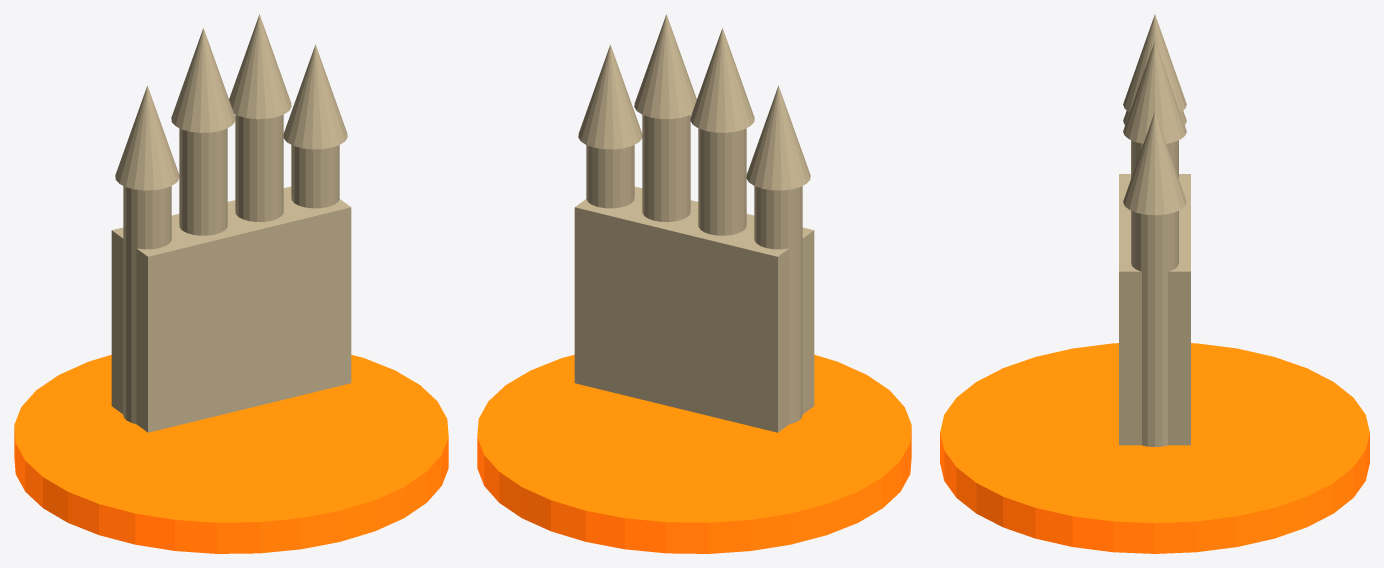
Rendered from spanish_sagrada_familia.dae.
The picture shows the model from 3 angles, left to right: view 1: azimuth 30°, elevation 25°; view 2: azimuth 150°, elevation 25°; view 3: azimuth 270°, elevation 25°; orthographic projection.
Visible parts, largest first — view 1: 11_11_Popular_Spanish_Sagrada_Familia_ROOT_base, 11_11_Popular_Spanish_Sagrada_Familia_part_09, 11_11_Popular_Spanish_Sagrada_Familia_part_01, 11_11_Popular_Spanish_Sagrada_Familia_part_03, 11_11_Popular_Spanish_Sagrada_Familia_part_05, 11_11_Popular_Spanish_Sagrada_Familia_part_08, 11_11_Popular_Spanish_Sagrada_Familia_part_02, 11_11_Popular_Spanish_Sagrada_Familia_part_04, 11_11_Popular_Spanish_Sagrada_Familia_part_06, 11_11_Popular_Spanish_Sagrada_Familia_part_07; view 2: 11_11_Popular_Spanish_Sagrada_Familia_ROOT_base, 11_11_Popular_Spanish_Sagrada_Familia_part_09, 11_11_Popular_Spanish_Sagrada_Familia_part_01, 11_11_Popular_Spanish_Sagrada_Familia_part_03, 11_11_Popular_Spanish_Sagrada_Familia_part_05, 11_11_Popular_Spanish_Sagrada_Familia_part_08, 11_11_Popular_Spanish_Sagrada_Familia_part_02, 11_11_Popular_Spanish_Sagrada_Familia_part_04, 11_11_Popular_Spanish_Sagrada_Familia_part_06, 11_11_Popular_Spanish_Sagrada_Familia_part_07; view 3: 11_11_Popular_Spanish_Sagrada_Familia_ROOT_base, 11_11_Popular_Spanish_Sagrada_Familia_part_09, 11_11_Popular_Spanish_Sagrada_Familia_part_07, 11_11_Popular_Spanish_Sagrada_Familia_part_08, 11_11_Popular_Spanish_Sagrada_Familia_part_06, 11_11_Popular_Spanish_Sagrada_Familia_part_04.
Boxes of the visible parts, <box> form: 11_11_Popular_Spanish_Sagrada_Familia_ROOT_base: <box>14,354,448,553</box>; 11_11_Popular_Spanish_Sagrada_Familia_part_09: <box>111,186,351,432</box>; 11_11_Popular_Spanish_Sagrada_Familia_part_01: <box>123,186,171,423</box>; 11_11_Popular_Spanish_Sagrada_Familia_part_03: <box>179,128,227,235</box>; 11_11_Popular_Spanish_Sagrada_Familia_part_05: <box>235,114,283,221</box>; 11_11_Popular_Spanish_Sagrada_Familia_part_08: <box>283,44,347,149</box>; 11_11_Popular_Spanish_Sagrada_Familia_part_02: <box>115,85,179,190</box>; 11_11_Popular_Spanish_Sagrada_Familia_part_04: <box>171,28,235,132</box>; 11_11_Popular_Spanish_Sagrada_Familia_part_06: <box>229,14,291,119</box>; 11_11_Popular_Spanish_Sagrada_Familia_part_07: <box>291,145,339,208</box>; 11_11_Popular_Spanish_Sagrada_Familia_ROOT_base: <box>477,354,911,553</box>; 11_11_Popular_Spanish_Sagrada_Familia_part_09: <box>574,186,814,432</box>; 11_11_Popular_Spanish_Sagrada_Familia_part_01: <box>754,186,802,423</box>; 11_11_Popular_Spanish_Sagrada_Familia_part_03: <box>698,128,746,235</box>; 11_11_Popular_Spanish_Sagrada_Familia_part_05: <box>642,114,690,221</box>; 11_11_Popular_Spanish_Sagrada_Familia_part_08: <box>578,44,642,149</box>; 11_11_Popular_Spanish_Sagrada_Familia_part_02: <box>746,85,810,190</box>; 11_11_Popular_Spanish_Sagrada_Familia_part_04: <box>690,28,754,132</box>; 11_11_Popular_Spanish_Sagrada_Familia_part_06: <box>634,14,696,119</box>; 11_11_Popular_Spanish_Sagrada_Familia_part_07: <box>586,145,634,208</box>; 11_11_Popular_Spanish_Sagrada_Familia_ROOT_base: <box>940,343,1369,553</box>; 11_11_Popular_Spanish_Sagrada_Familia_part_09: <box>1119,174,1190,445</box>; 11_11_Popular_Spanish_Sagrada_Familia_part_07: <box>1131,210,1178,446</box>; 11_11_Popular_Spanish_Sagrada_Familia_part_08: <box>1123,112,1186,215</box>; 11_11_Popular_Spanish_Sagrada_Familia_part_06: <box>1123,41,1186,143</box>; 11_11_Popular_Spanish_Sagrada_Familia_part_04: <box>1123,14,1186,112</box>.
Size of the model in its own units: 0.76 by 0.85 by 0.76.
